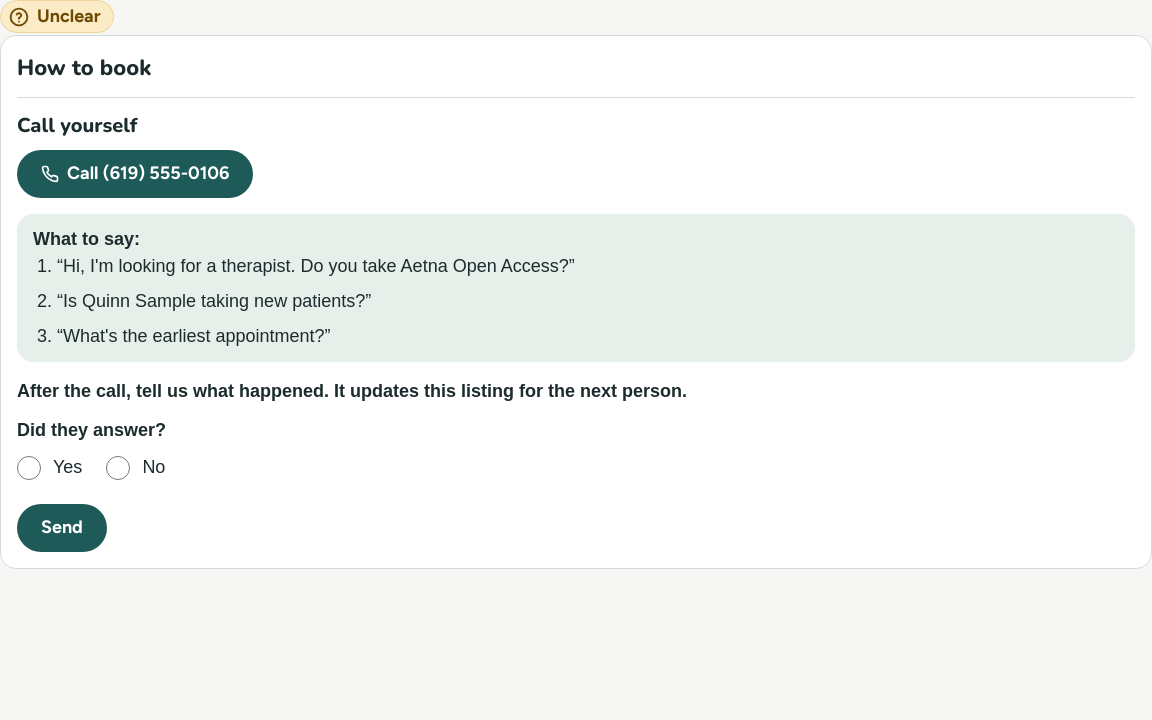
Test: sends unknown when nobody answered
Click the radio button labelled "Yes" at [29, 468], box [17,456,41,480]
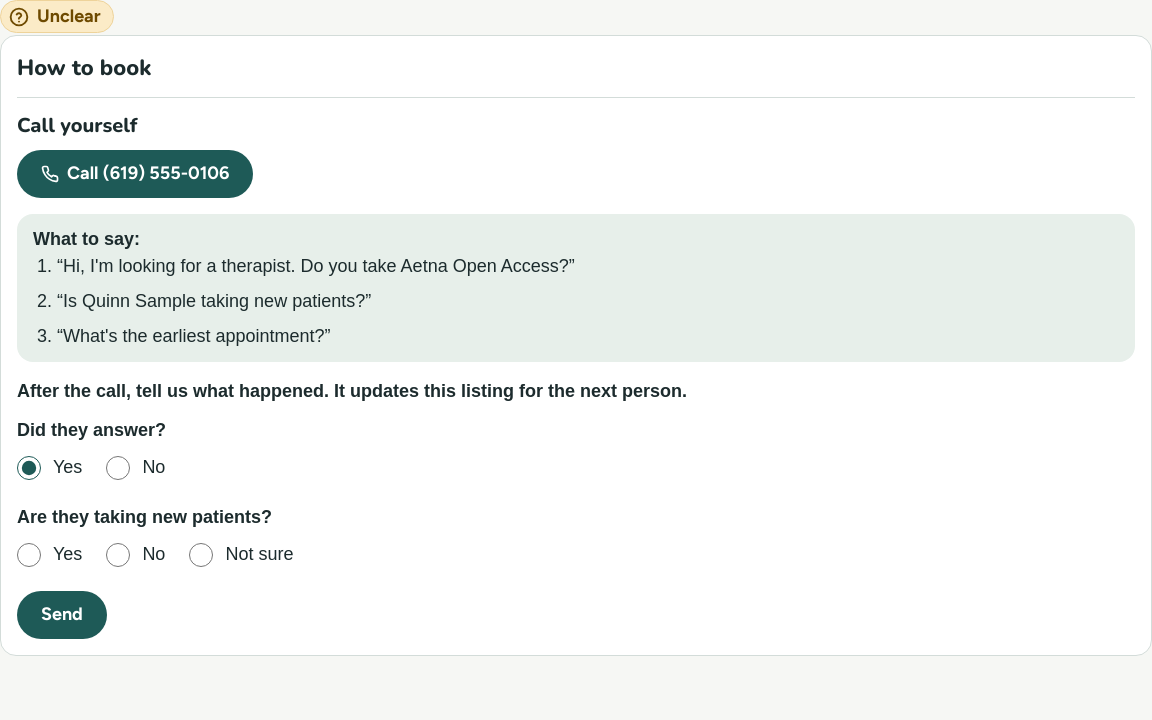
Click the radio button labelled "Yes" in the row of "Not sure" at [29, 555], box [17,543,41,567]
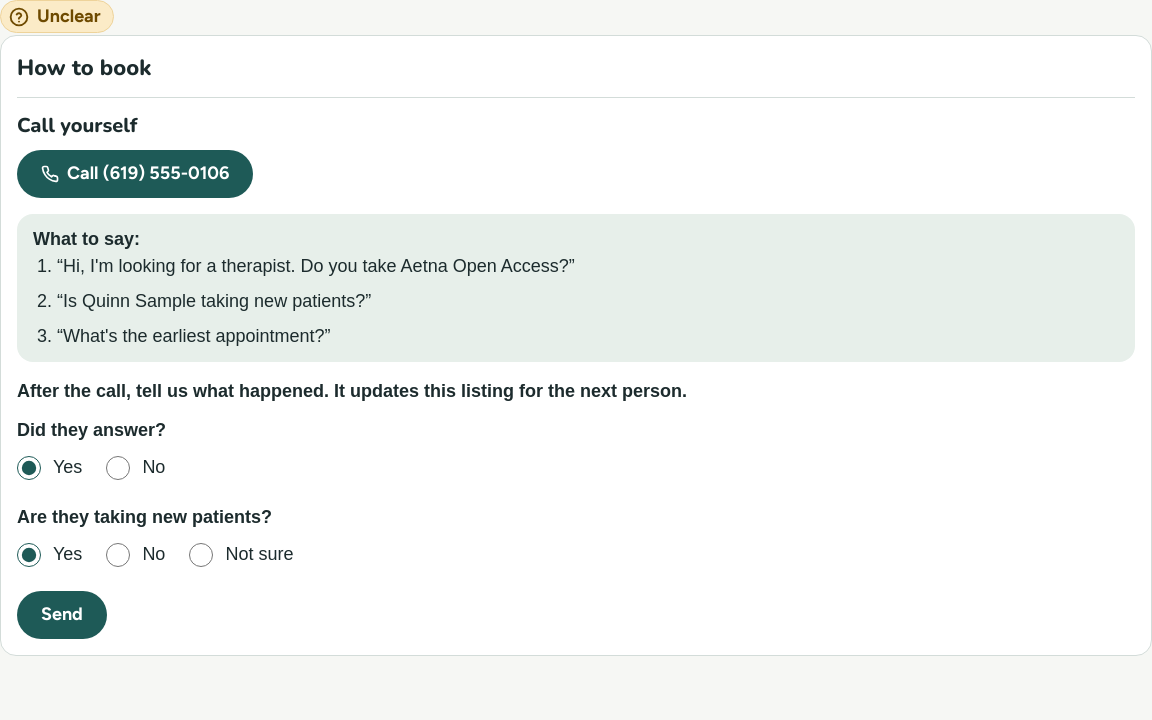
Click the radio button labelled "No" below "Did they answer?" at [118, 468], box [106,456,130,480]
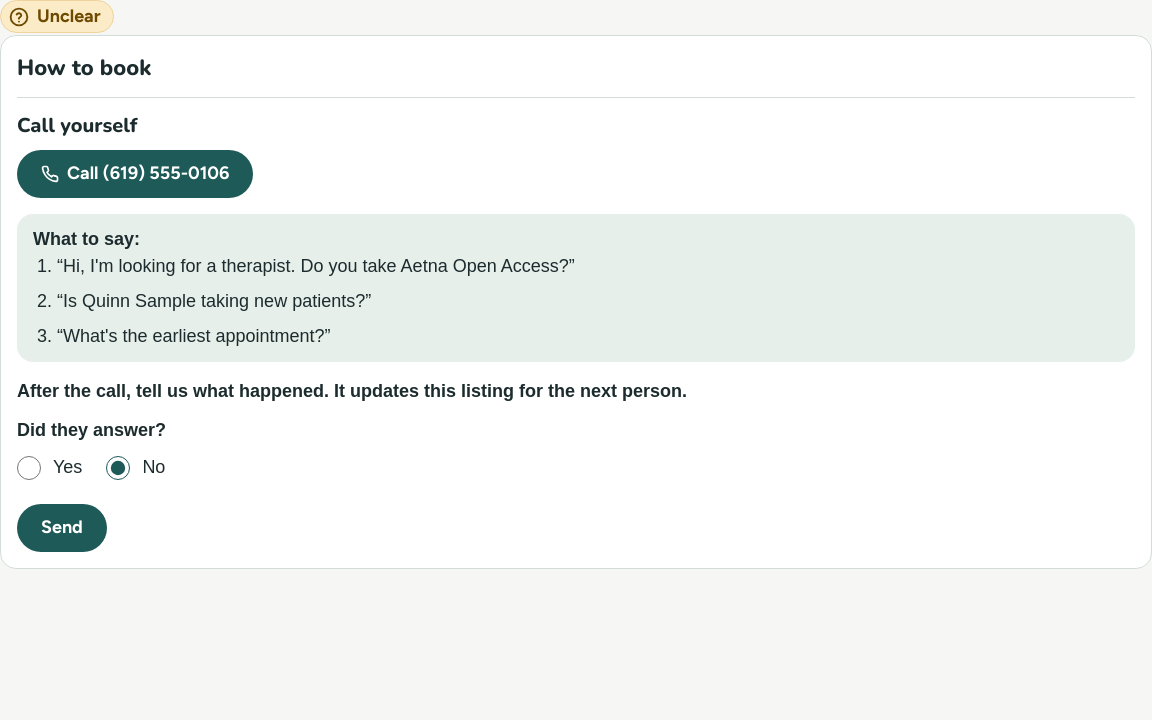
Click the button "Send" at [62, 528], box [17,504,107,552]
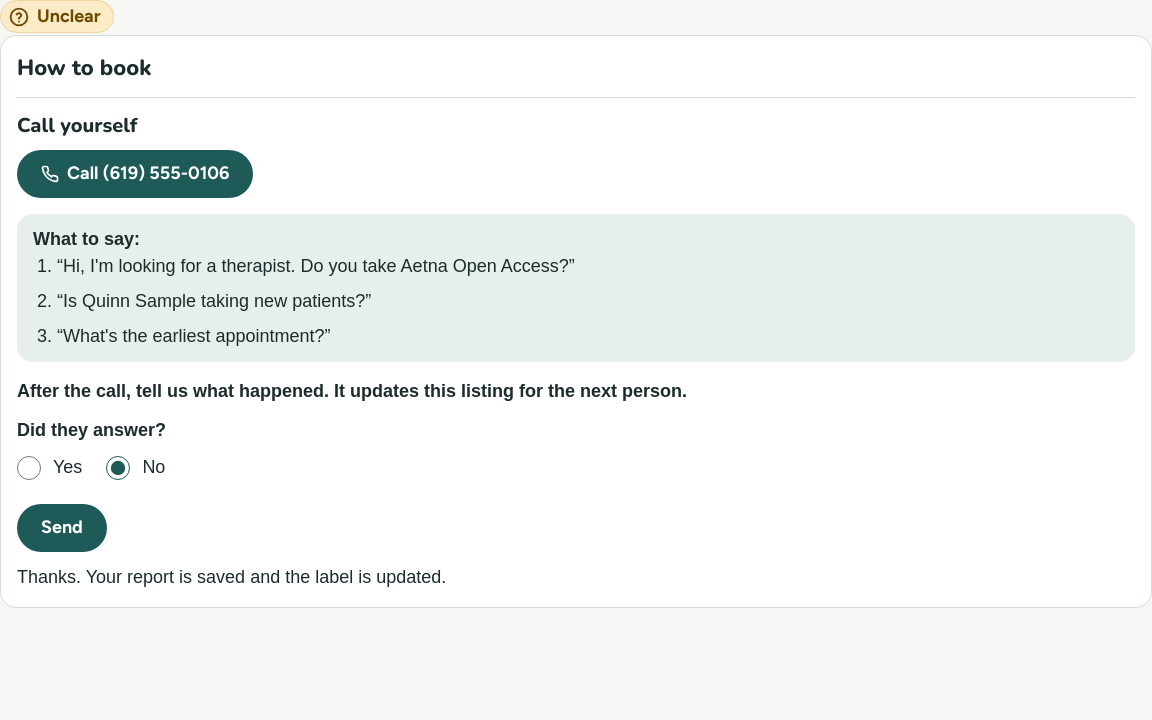
Check: the text "Thanks. Your report is saved and the label is updated." is shown, box [17,567,446,587]
